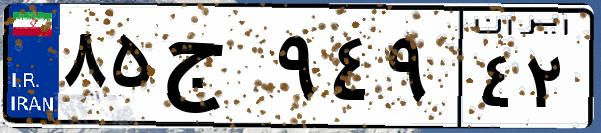2: (525, 38, 570, 115)
4: (330, 28, 385, 110), (475, 38, 525, 113)
5: (110, 28, 158, 98)
8: (57, 26, 110, 100)
9: (270, 28, 330, 110), (385, 28, 445, 110)
ج: (158, 20, 270, 120)
